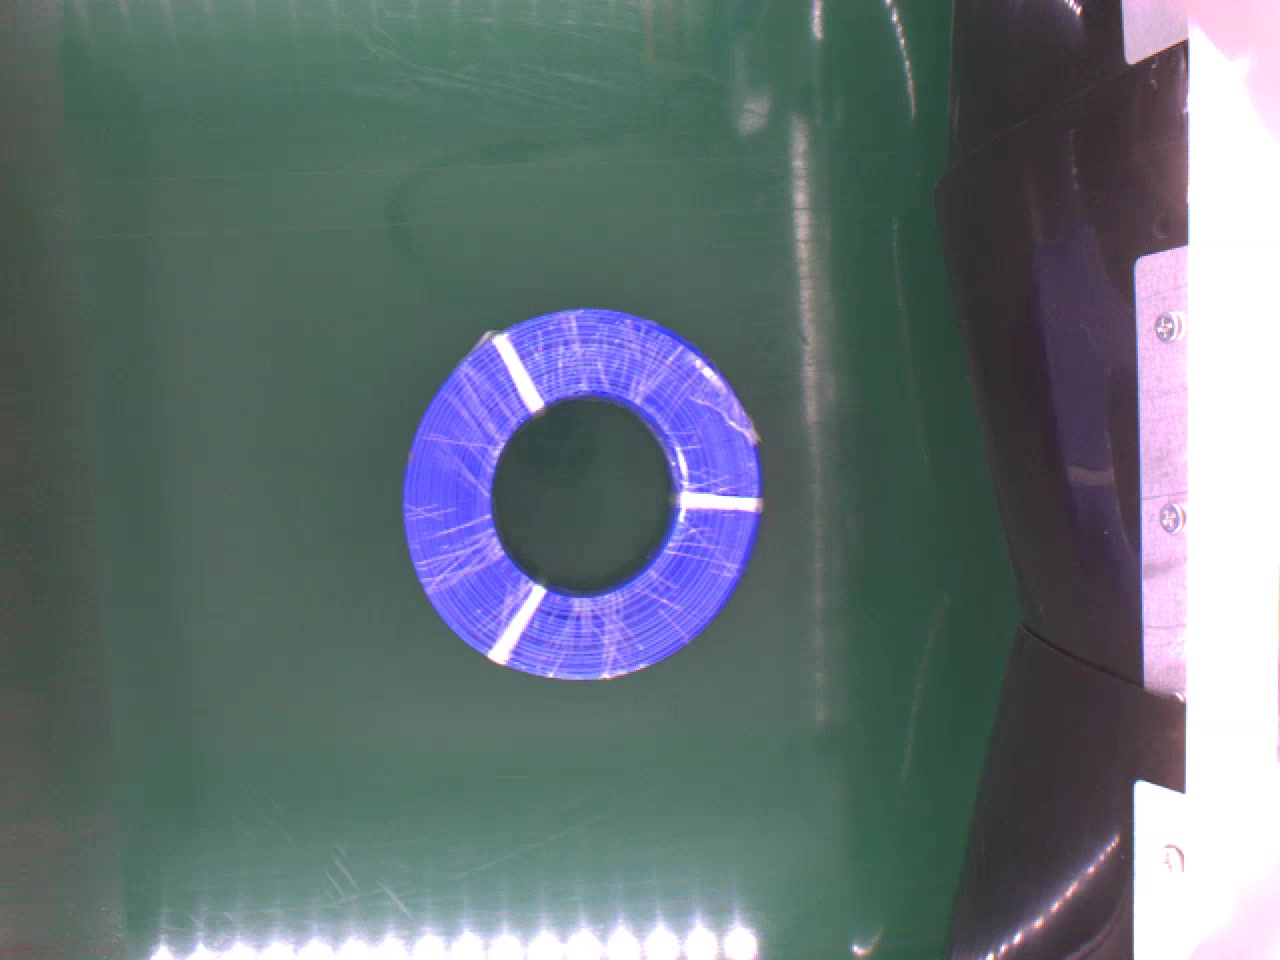blue: (397, 301, 768, 680)
